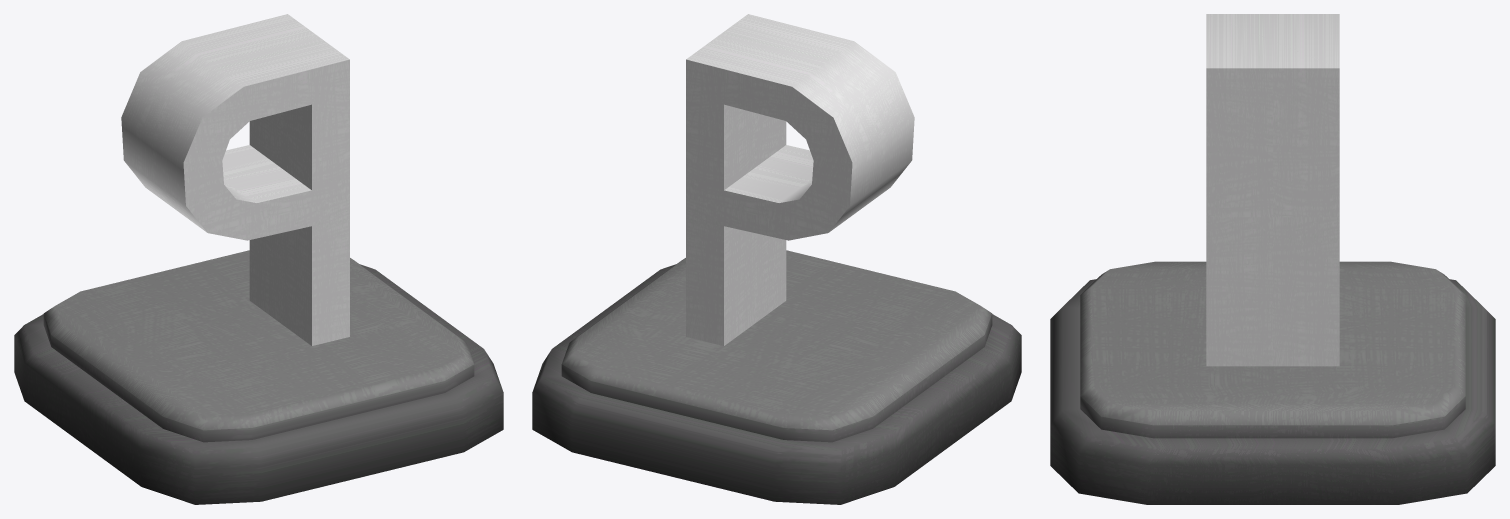
Rendered from Statue Letter P Hand.fbx.
3 renders of one model, left to right at view 1: azimuth 30°, elevation 25°; view 2: azimuth 150°, elevation 25°; view 3: azimuth 270°, elevation 25°, orthographic. The views are drawn at different scales.
Visible parts, largest first — view 1: StatueBase (1), Letter; view 2: StatueBase (1), Letter; view 3: StatueBase (1), Letter.
Boxes of the visible parts, bbox=[...] form: StatueBase (1): bbox=[14, 250, 503, 504]; Letter: bbox=[121, 14, 349, 345]; StatueBase (1): bbox=[532, 250, 1021, 504]; Letter: bbox=[686, 14, 914, 345]; StatueBase (1): bbox=[1050, 261, 1495, 504]; Letter: bbox=[1206, 14, 1339, 366].
Size of the model in its own units: 0.9118 by 0.8657 by 0.9299.
